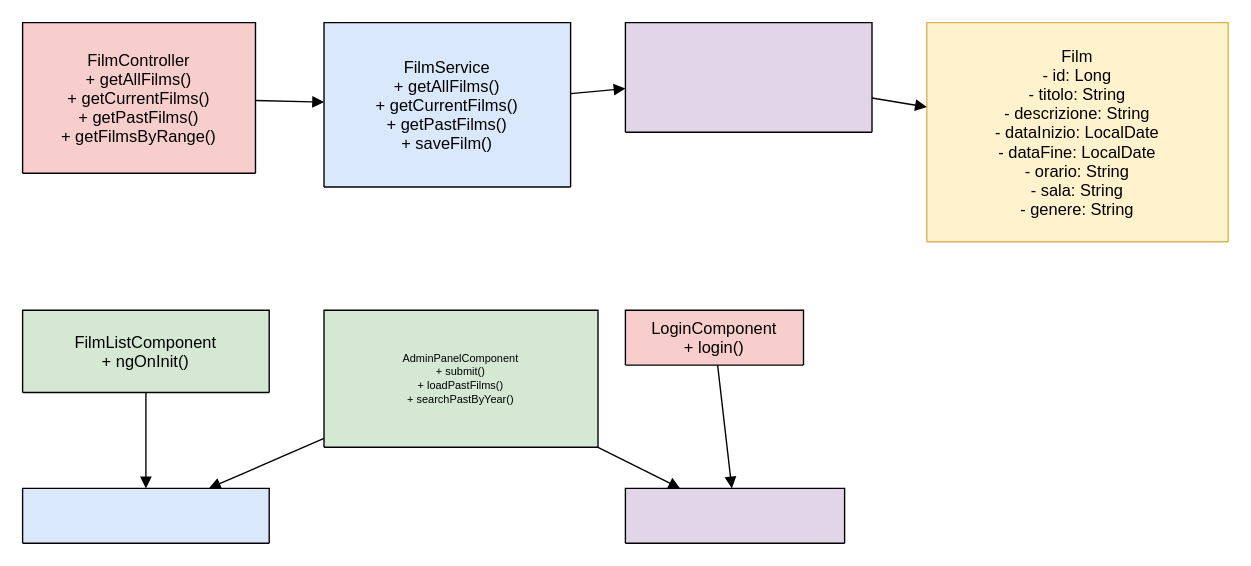
The diagram is 1251 pixels wide and 566 high, and some of its shapes have lost their labels. The shapes that lost their labels are listed below. From the top down, each one's centre as x and y in pixels, then its label:
the point at 748,76: FilmRepository (JpaRepository)
the point at 145,515: FilmService (frontend)
the point at 734,515: AuthService
